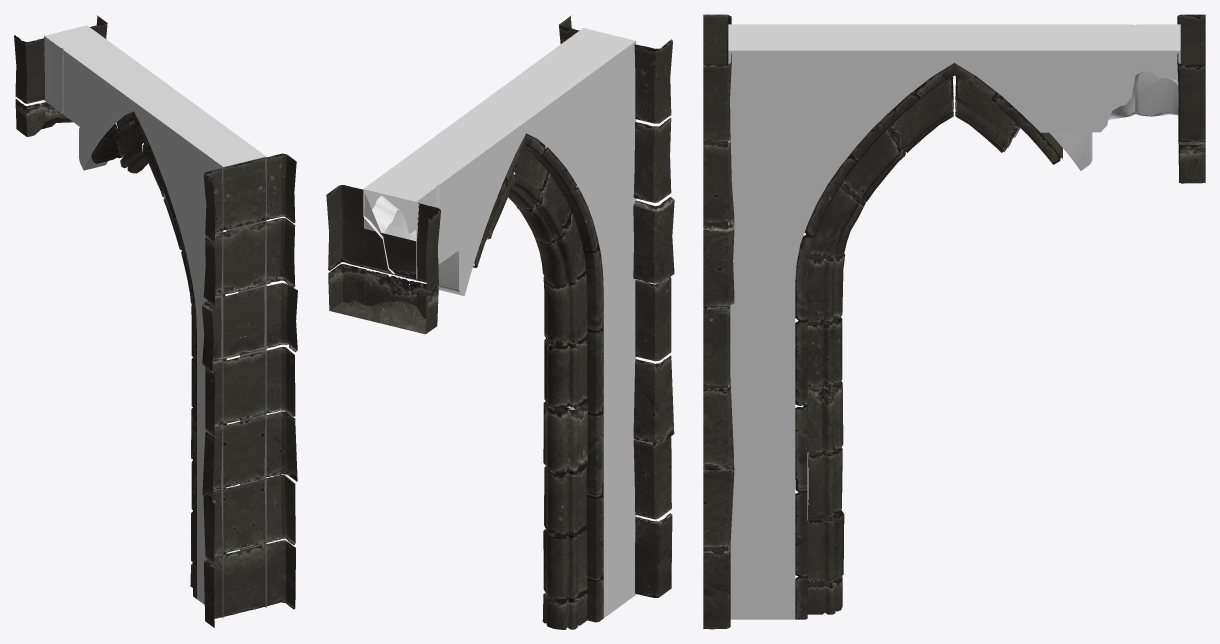
3 renders of one model, left to right at view 1: azimuth 30°, elevation 25°; view 2: azimuth 150°, elevation 25°; view 3: azimuth 270°, elevation 25°, orthographic. The views are drawn at different scales.
Visible parts, largest first — view 1: SM_Greathall_Lower_Arch_8x10_Broken_01_LOD0; view 2: SM_Greathall_Lower_Arch_8x10_Broken_01_LOD0; view 3: SM_Greathall_Lower_Arch_8x10_Broken_01_LOD0.
Part boxes in pixels (x1,y1,x2,y2): SM_Greathall_Lower_Arch_8x10_Broken_01_LOD0: (14, 15, 297, 627); SM_Greathall_Lower_Arch_8x10_Broken_01_LOD0: (326, 15, 674, 629); SM_Greathall_Lower_Arch_8x10_Broken_01_LOD0: (703, 14, 1205, 629).
Size of the model in its own units: 2 by 10 by 8.
3 materials, 2 textured.
